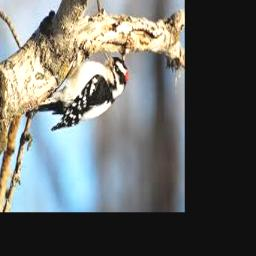Woodpecker: (32, 50, 128, 131)
